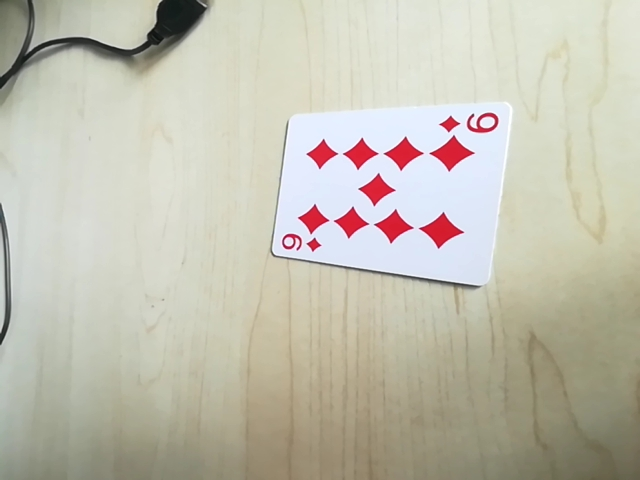fk 9: (436, 106, 503, 139), (275, 230, 325, 259)
